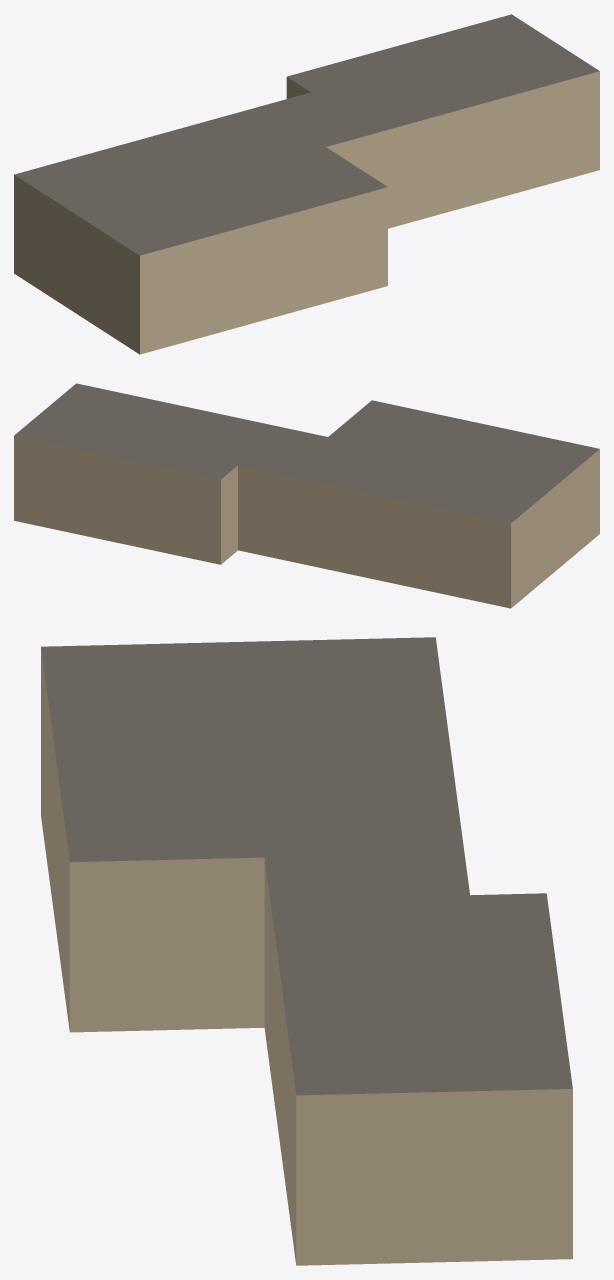
3 renders of one model, top to bottom at view 1: azimuth 30°, elevation 25°; view 2: azimuth 150°, elevation 25°; view 3: azimuth 270°, elevation 25°, orthographic. The views are drawn at different scales.
Parts seen in each view (by area): view 1: HP-w1333613412; view 2: HP-w1333613412; view 3: HP-w1333613412.
Part boxes in pixels (left/top/right/bottom): HP-w1333613412: left=14, top=14, right=599, bottom=354; HP-w1333613412: left=14, top=383, right=599, bottom=608; HP-w1333613412: left=41, top=637, right=572, bottom=1265.
Size of the model in its own units: 76.19 by 13.2 by 37.36.
